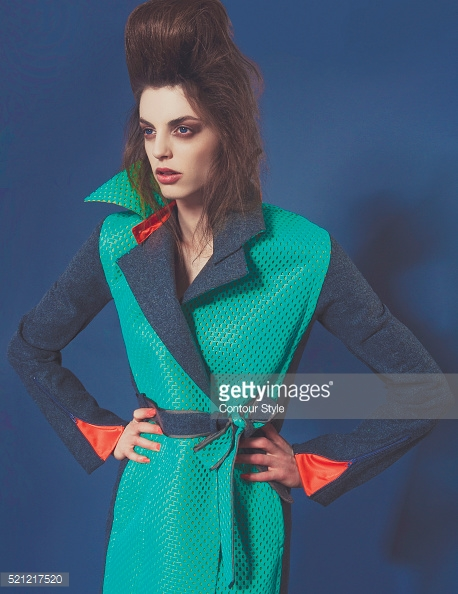em pe: (0, 42, 367, 594)
